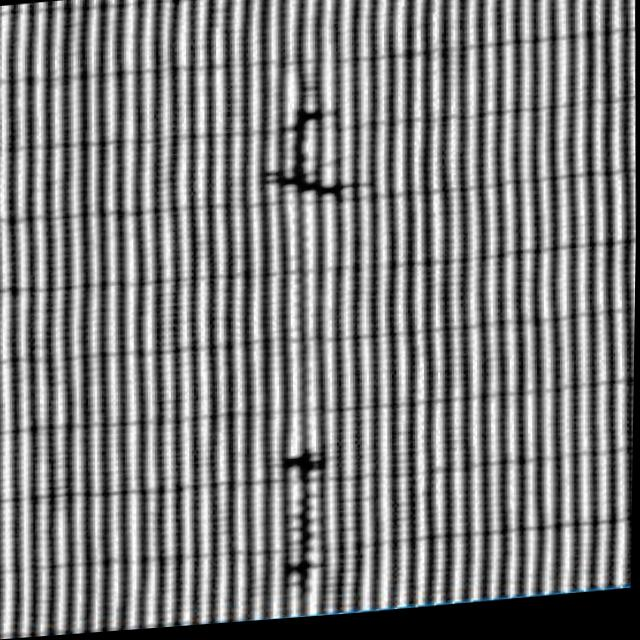Stitch: (255, 78, 367, 228), (253, 447, 348, 605)
